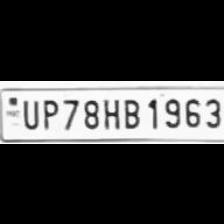1: (142, 93, 160, 129)
3: (202, 92, 222, 128)
6: (182, 94, 200, 128)
7: (58, 94, 78, 130)
8: (79, 94, 98, 130)
9: (162, 92, 182, 128)
B: (120, 94, 142, 130)
H: (100, 94, 119, 130)
P: (38, 96, 60, 128)
U: (19, 96, 40, 128)
